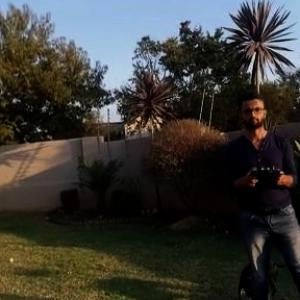follow: (225, 84, 299, 299)
